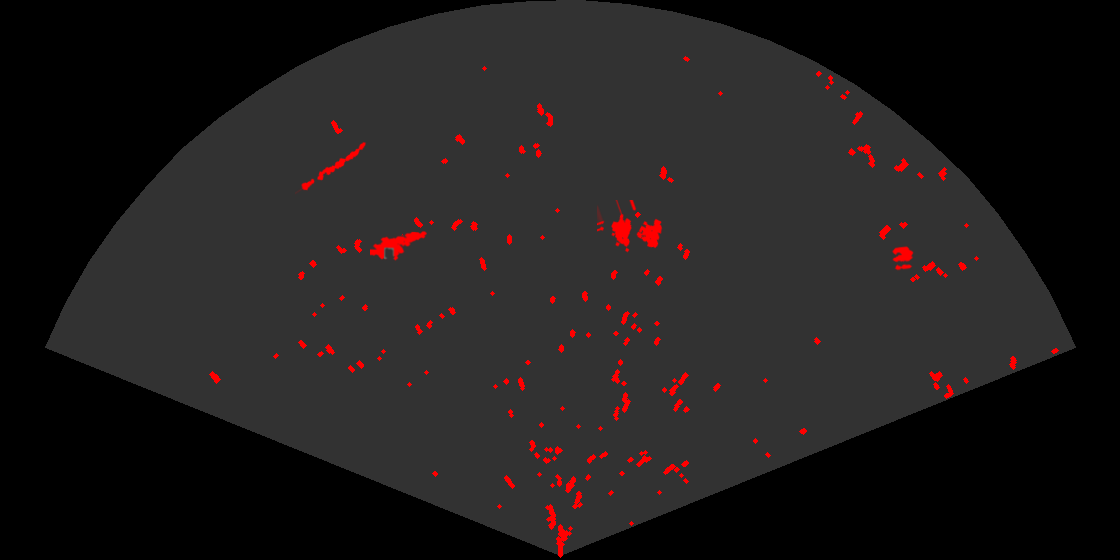ball: (890, 245, 915, 272)
cage: (597, 200, 664, 254)
chain: (295, 140, 368, 196)
frogman: (370, 230, 427, 262)
